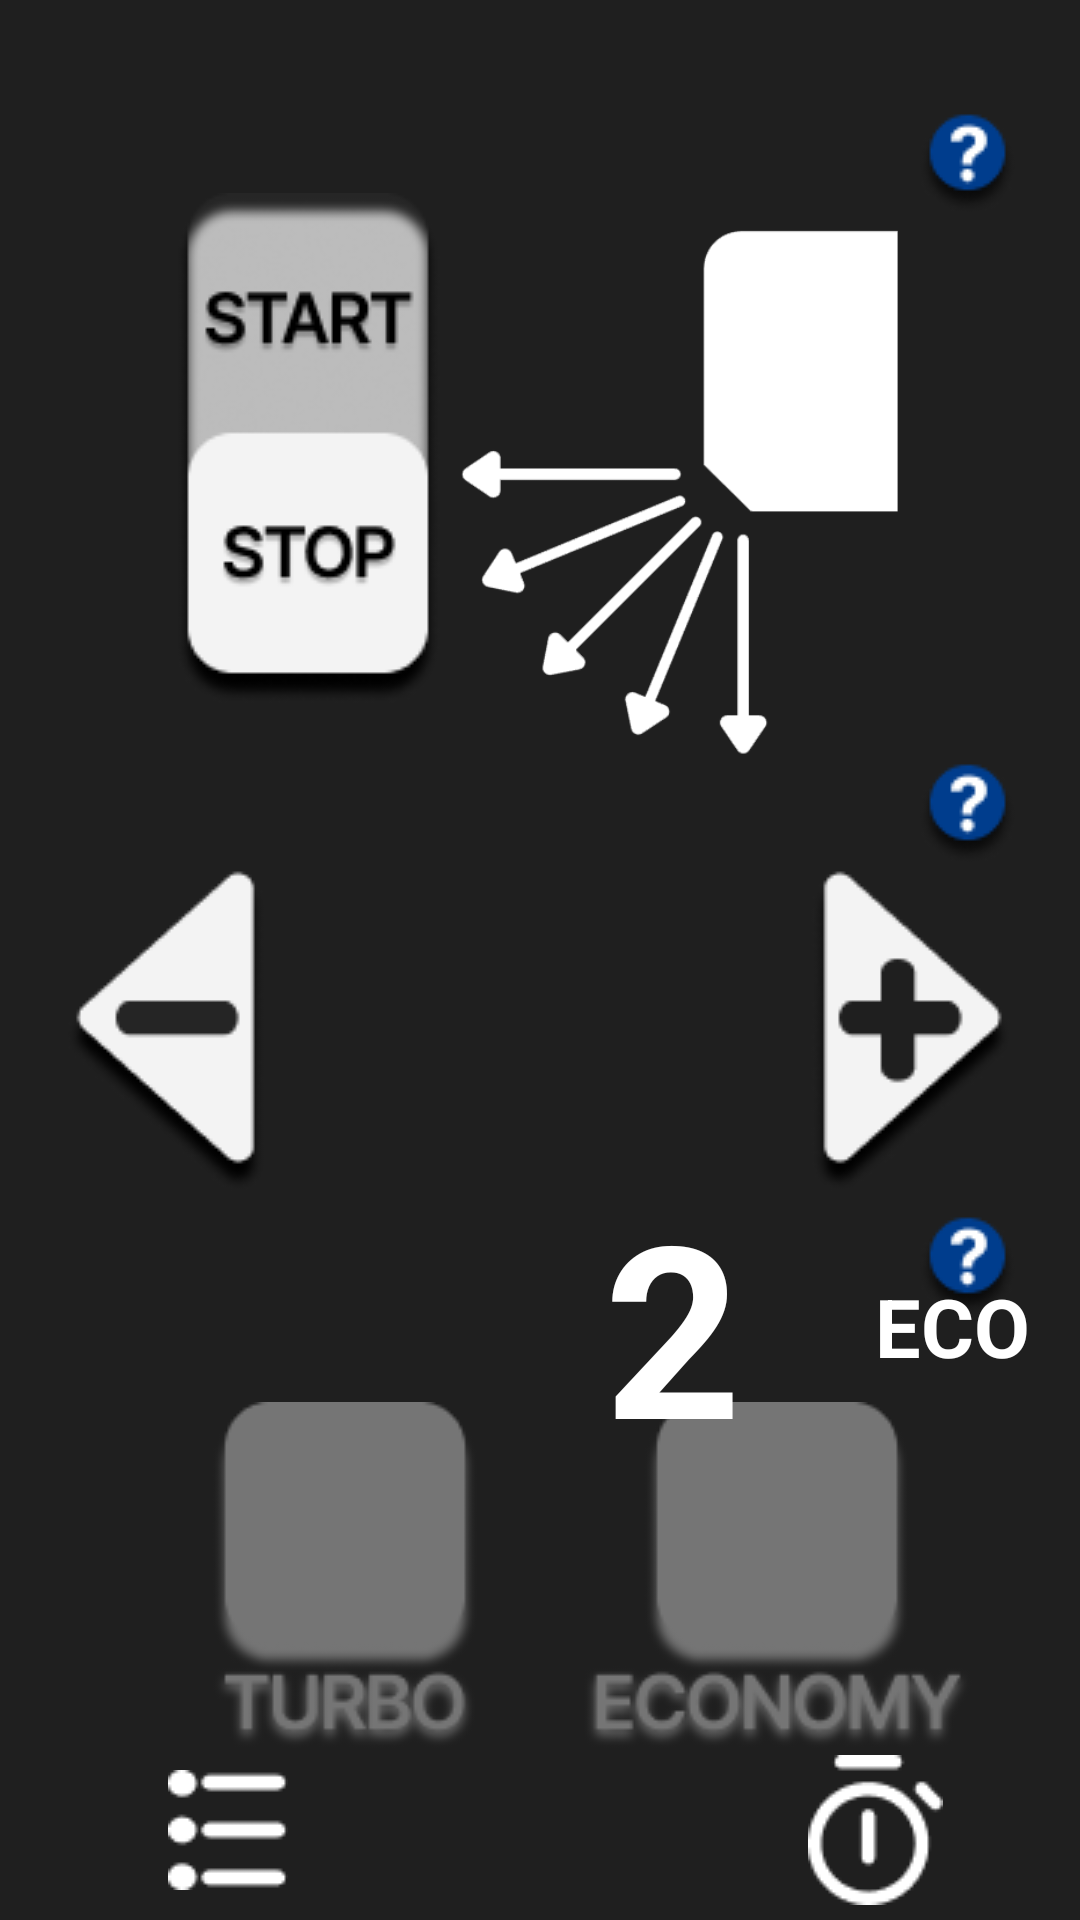

Where to tap for icons on this 1080×1920 app screen, as point (x, y):
info: point (967, 152), point (967, 802), point (967, 1255)
minus: point (165, 1022)
more: point (227, 1830)
plus: point (912, 1022)
timer: point (875, 1830)
